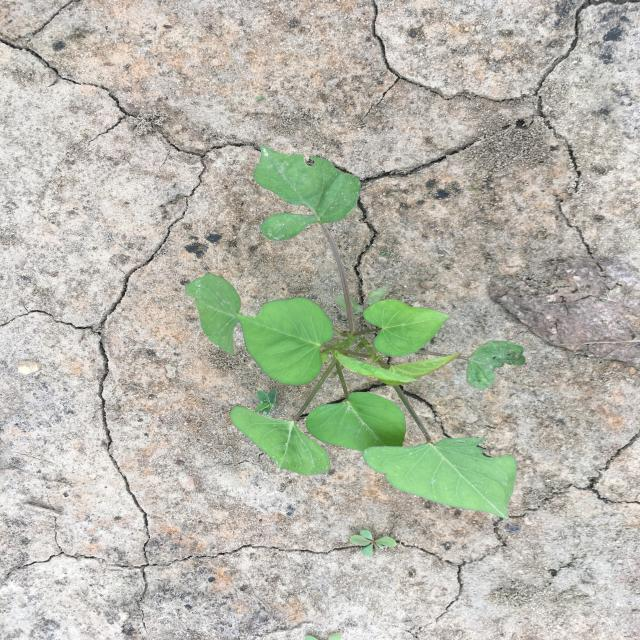Carpetweed: (349, 529, 397, 557)
MorningGlory: (186, 145, 526, 520)
